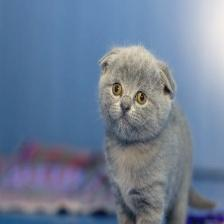kedo: (100, 47, 191, 224)
